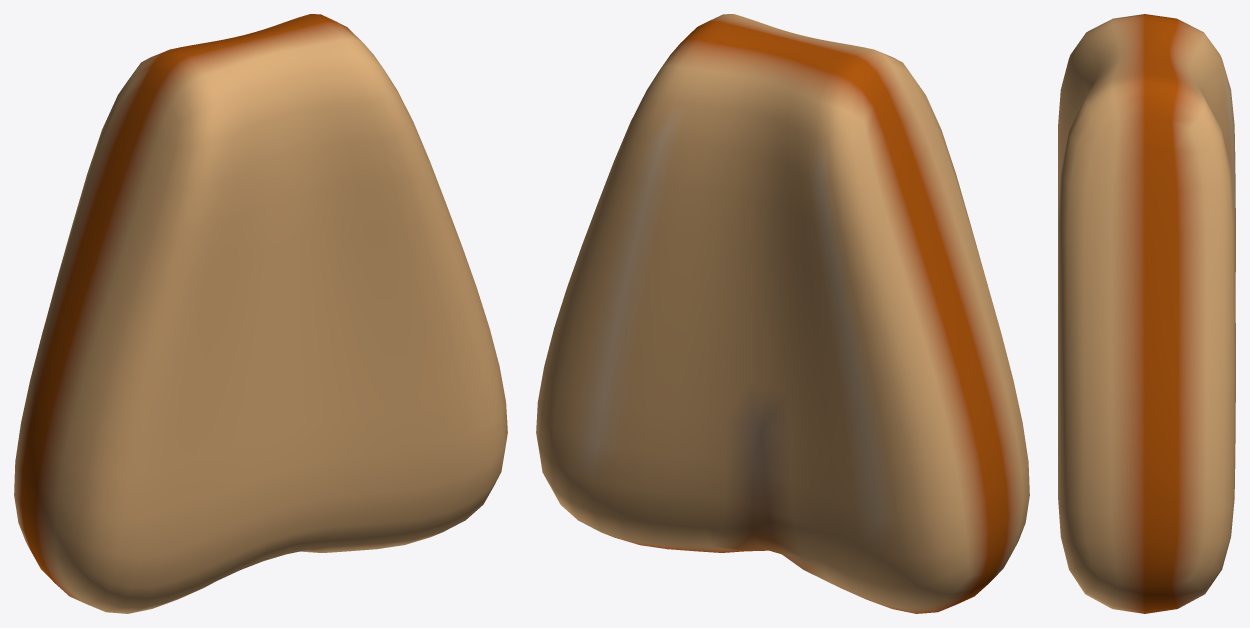
Rendered from Enemy Puffer Left Fin.fbx.
3 renders of one model, left to right at view 1: azimuth 30°, elevation 25°; view 2: azimuth 150°, elevation 25°; view 3: azimuth 270°, elevation 25°, orthographic. The views are drawn at different scales.
Parts seen in each view (by area): view 1: polySurface117; view 2: polySurface117; view 3: polySurface117.
Boxes of the visible parts, <box> form: polySurface117: <box>14,14,507,613</box>; polySurface117: <box>536,14,1029,613</box>; polySurface117: <box>1058,14,1235,613</box>.
Size of the model in its own units: 37.12 by 42.11 by 13.62.
